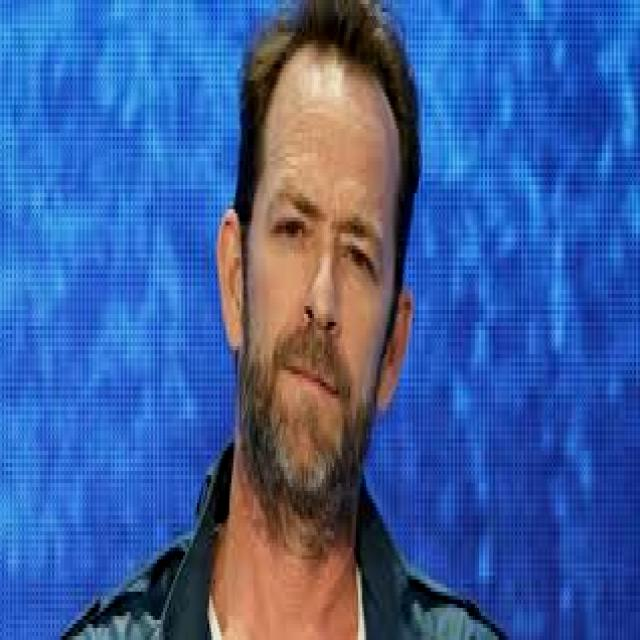normal_face: (190, 29, 430, 576)
